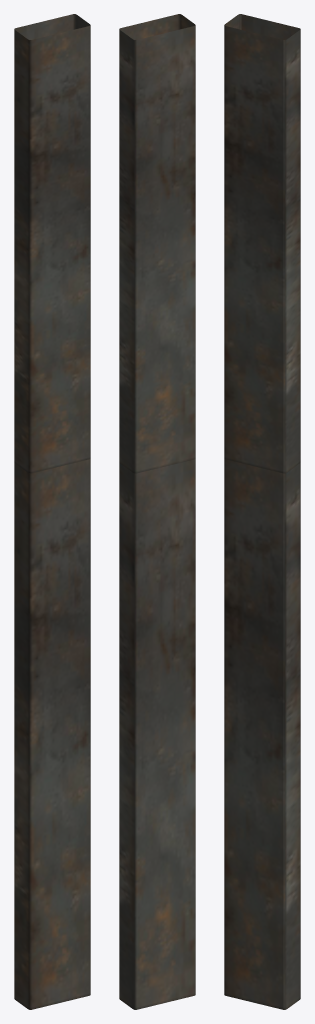
File: railing_006.glb
3 renders of one model, left to right at view 1: azimuth 30°, elevation 25°; view 2: azimuth 210°, elevation 25°; view 3: azimuth 330°, elevation 25°, orthographic.
Visible parts, largest first — view 1: Building_12_082; view 2: Building_12_082; view 3: Building_12_082.
Part boxes in pixels (box(x1,y1,x2,y2)): Building_12_082: box(14, 14, 90, 1009); Building_12_082: box(119, 14, 195, 1009); Building_12_082: box(224, 14, 300, 1009).
Size of the model in its own units: 0.067 by 1 by 0.0303.
1 material, 1 textured.
